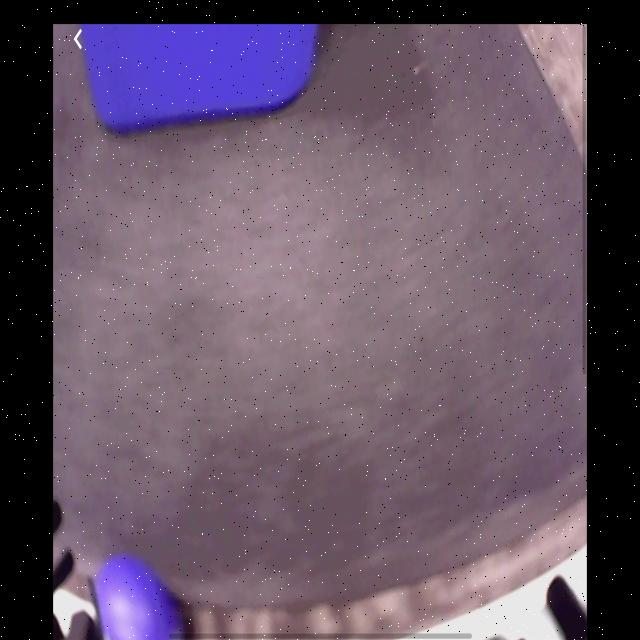ball: (93, 556, 179, 640)
